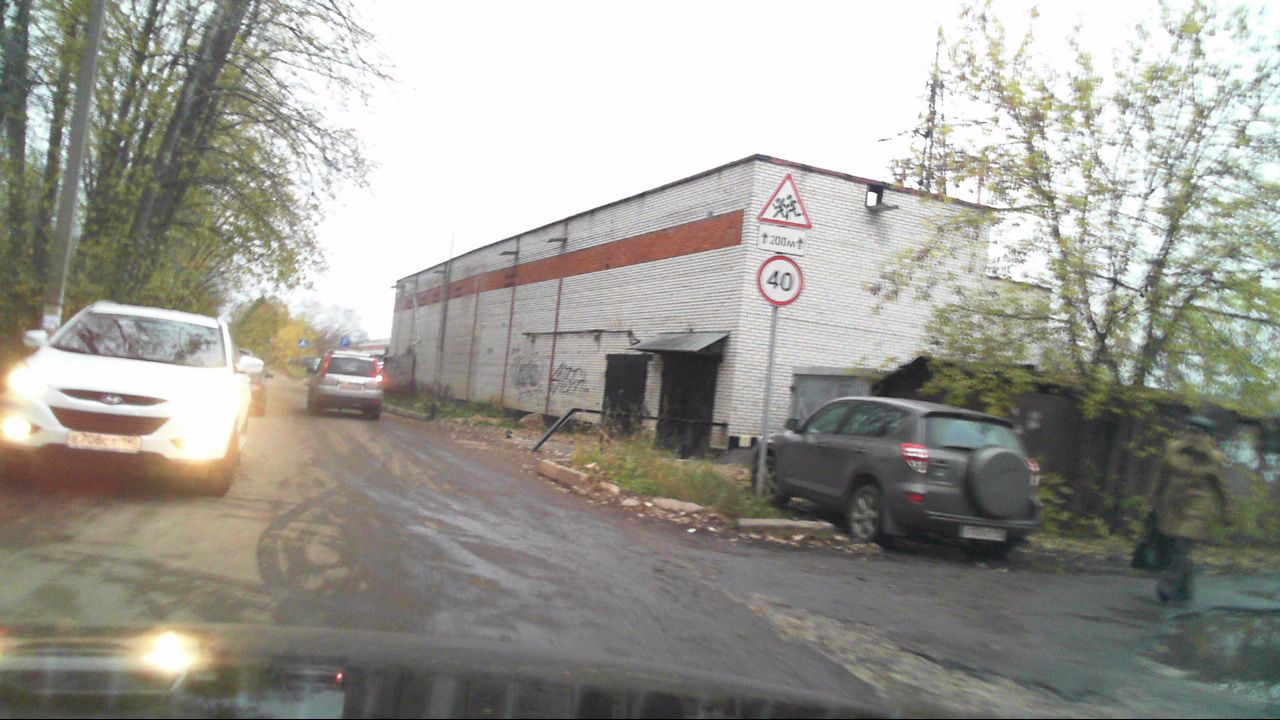speed_warning_40: (758, 258, 802, 305)
